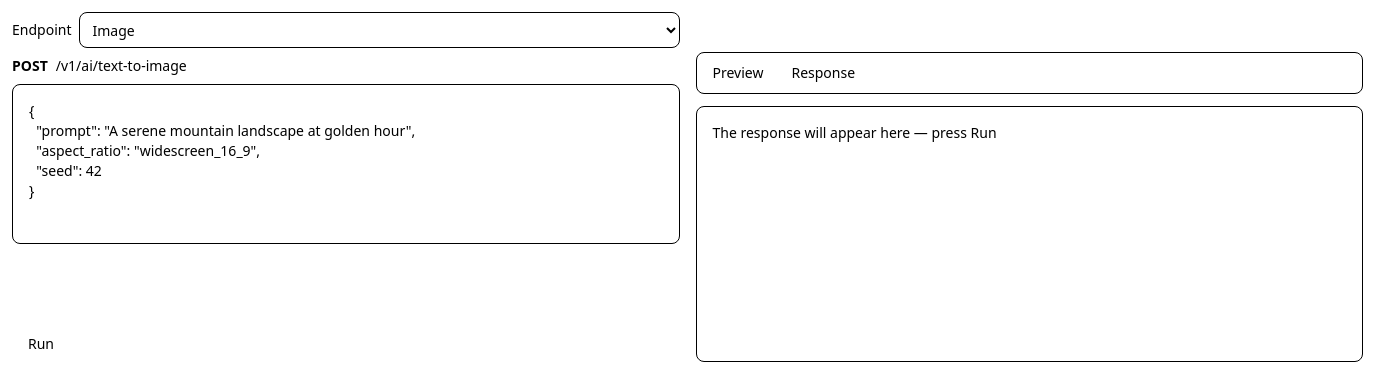
Test: ApiRequestPlayer › during pending, a status label in font-mono accompanies the spinner
Click the button "Run" at (41, 344), box [12, 326, 70, 362]
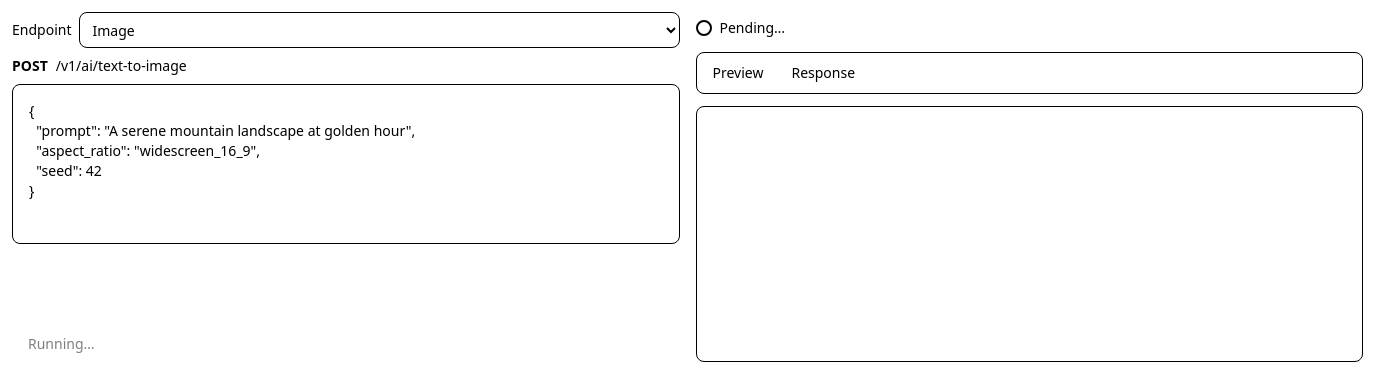
Now the text "Pending…" is shown, box [720, 18, 785, 38]
